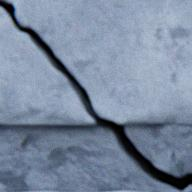broken_brick: (2, 0, 191, 124), (0, 8, 96, 125)
crack: (0, 0, 191, 191)
